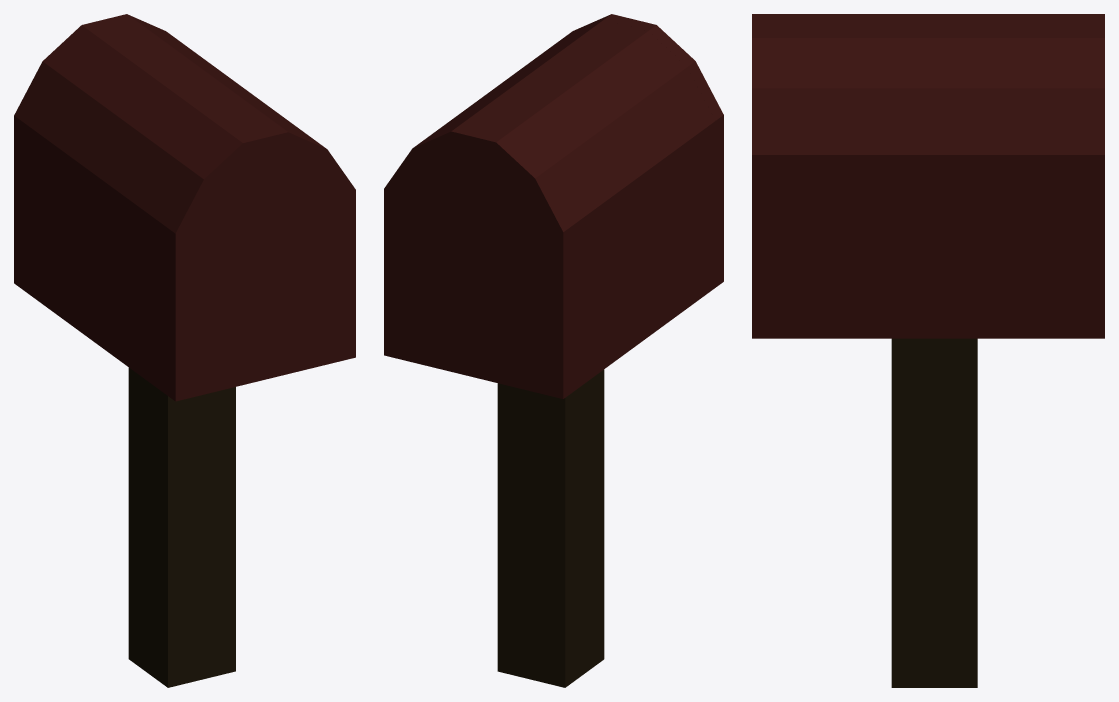
Rendered from mailbox.glb.
3 renders of one model, left to right at view 1: azimuth 30°, elevation 25°; view 2: azimuth 150°, elevation 25°; view 3: azimuth 270°, elevation 25°, orthographic. The views are drawn at different scales.
Visible parts, largest first — view 1: MailboxBody, MailboxDoor, MailboxBeam; view 2: MailboxBody, MailboxBeam, MailboxDoor; view 3: MailboxBody, MailboxBeam, MailboxDoor.
Boxes of the visible parts, left/top/right/bottom form: MailboxBody: left=14, top=14, right=317, bottom=394; MailboxDoor: left=167, top=126, right=355, bottom=401; MailboxBeam: left=128, top=367, right=235, bottom=687; MailboxBody: left=384, top=20, right=715, bottom=398; MailboxBeam: left=497, top=369, right=604, bottom=687; MailboxDoor: left=565, top=14, right=723, bottom=287; MailboxBody: left=770, top=14, right=1104, bottom=338; MailboxBeam: left=891, top=338, right=977, bottom=687; MailboxDoor: left=752, top=14, right=770, bottom=338.
Bounding box in the file's own units: 0.5255 × 1.64 × 0.8147.
